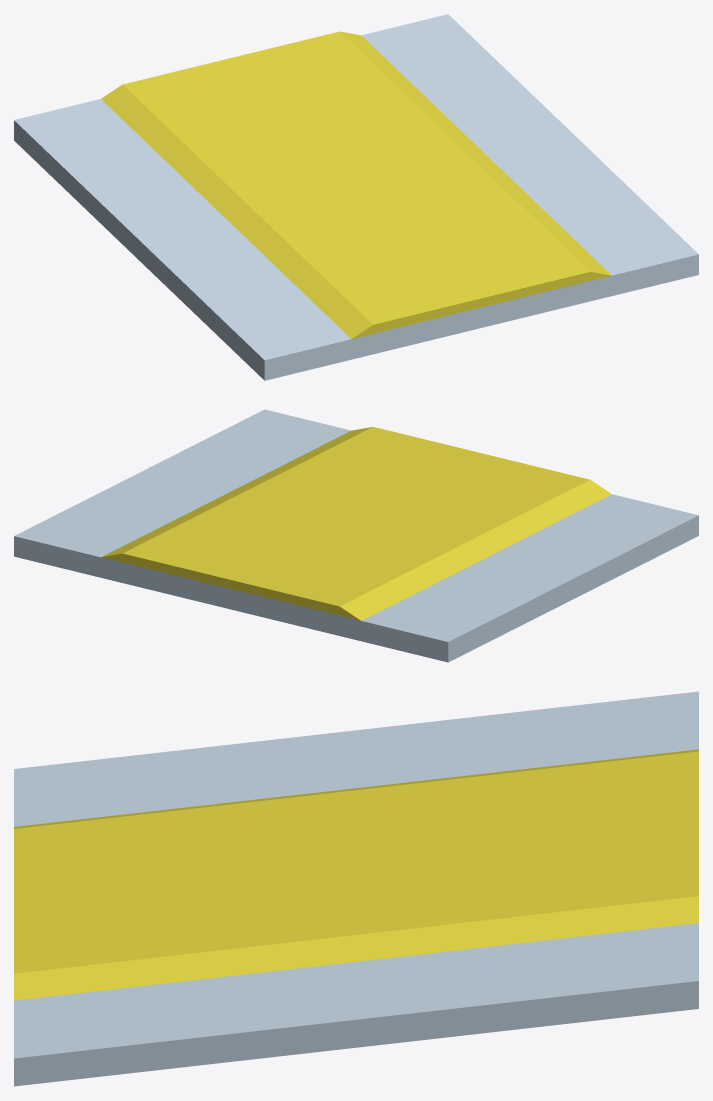
Rendered from world24.fbx.
The picture shows the model from 3 angles, top to bottom: view 1: azimuth 30°, elevation 25°; view 2: azimuth 150°, elevation 25°; view 3: azimuth 270°, elevation 25°; orthographic projection. The views are drawn at different scales.
Parts seen in each view (by area): view 1: Cube.133, Cube.132; view 2: Cube.133, Cube.132; view 3: Cube.133, Cube.132.
Boxes of the visible parts, x1,y1,x2,y2 form: Cube.133: [101, 31, 611, 338]; Cube.132: [14, 14, 698, 380]; Cube.133: [101, 427, 611, 620]; Cube.132: [14, 409, 698, 662]; Cube.133: [14, 749, 698, 1000]; Cube.132: [14, 691, 698, 1086].
Bounding box in the file's own units: 400 × 76.04 × 400.
